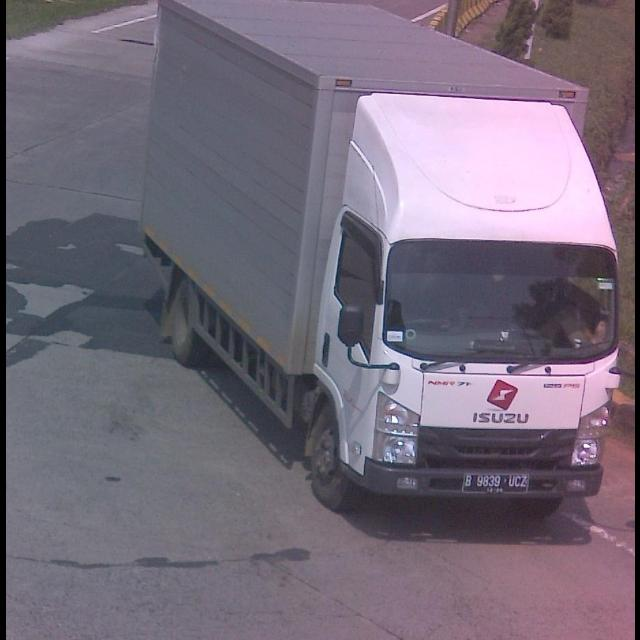plate: (461, 466, 537, 498)
